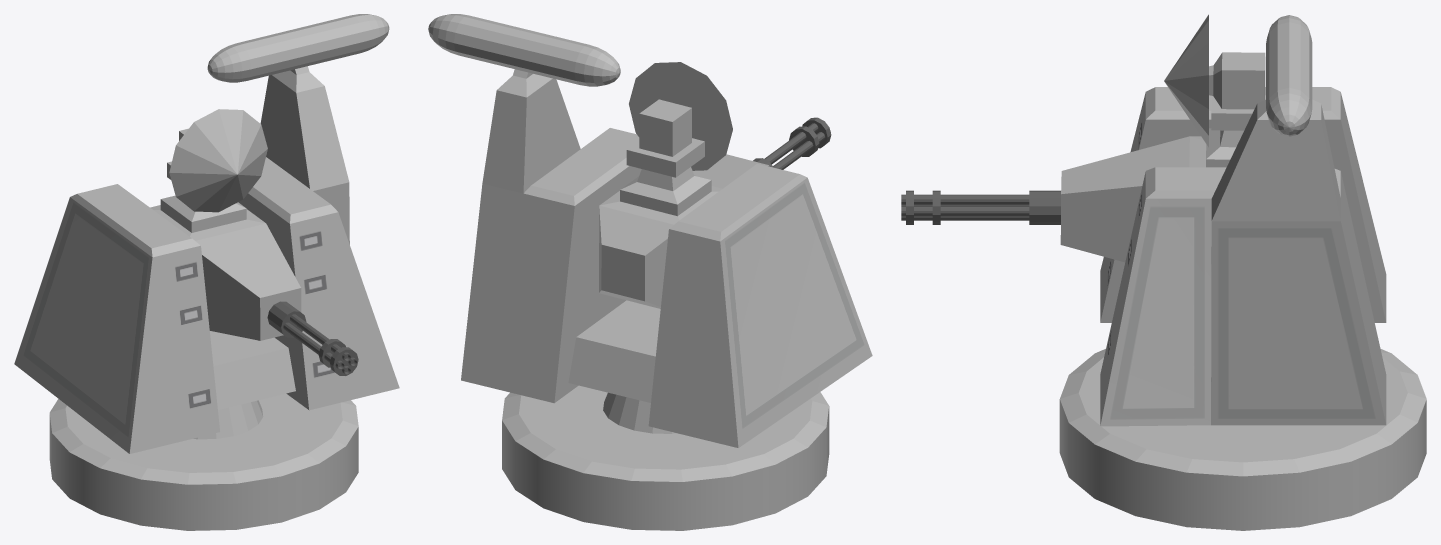
Rendered from Turret_02.fbx.
The picture shows the model from 3 angles, left to right: view 1: azimuth 30°, elevation 25°; view 2: azimuth 150°, elevation 25°; view 3: azimuth 270°, elevation 25°; orthographic projection. The views are drawn at different scales.
Parts seen in each view (by area): view 1: Turret_02_Body, Turret_02_LowerBody, Turret_02_MainGunBody, Turret_02_MainGun; view 2: Turret_02_Body, Turret_02_LowerBody, Turret_02_MainGunBody, Turret_02_MainGun; view 3: Turret_02_Body, Turret_02_LowerBody, Turret_02_MainGunBody, Turret_02_MainGun.
Boxes of the visible parts, <box> form: Turret_02_Body: <box>14,14,399,453</box>; Turret_02_LowerBody: <box>49,393,358,530</box>; Turret_02_MainGunBody: <box>150,109,301,340</box>; Turret_02_MainGun: <box>267,301,358,375</box>; Turret_02_Body: <box>428,14,872,447</box>; Turret_02_LowerBody: <box>502,385,829,530</box>; Turret_02_MainGunBody: <box>599,62,769,308</box>; Turret_02_MainGun: <box>753,117,831,169</box>; Turret_02_Body: <box>1100,15,1386,426</box>; Turret_02_LowerBody: <box>1059,349,1426,530</box>; Turret_02_MainGunBody: <box>1060,14,1265,262</box>; Turret_02_MainGun: <box>901,190,1060,224</box>.
Bounding box in the file's own units: 20.17 × 22.39 × 22.98.
